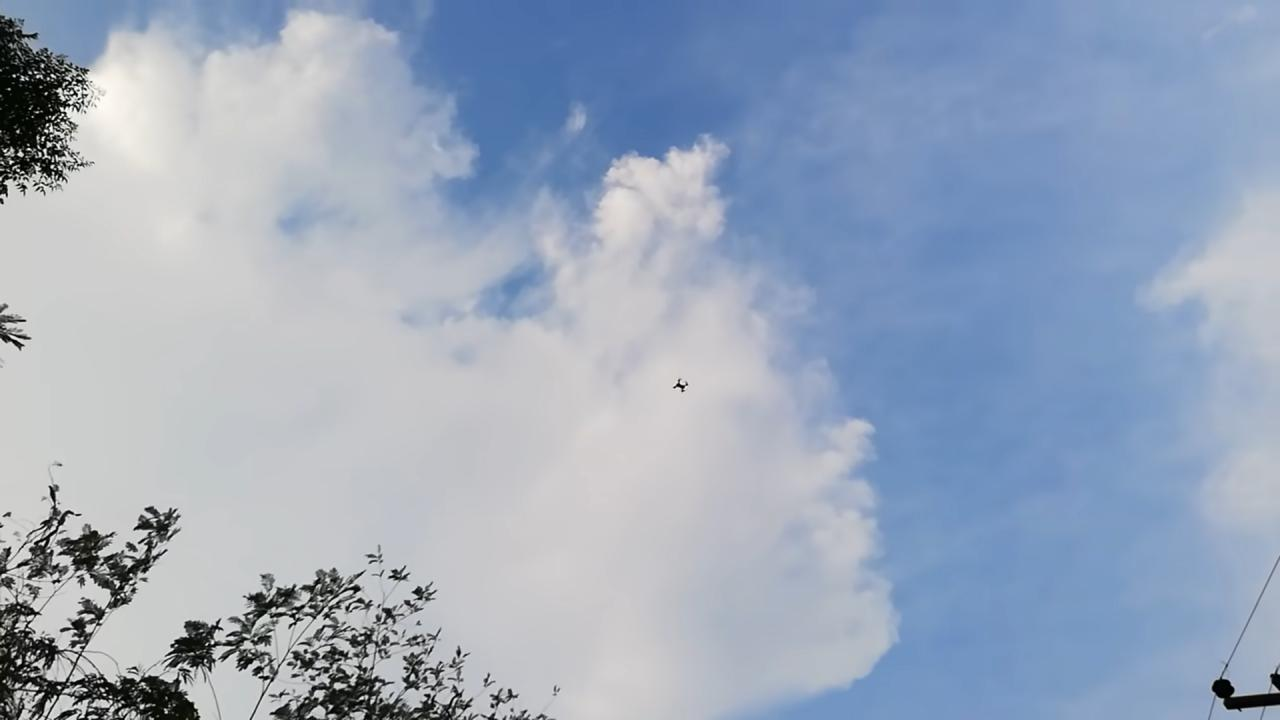Drone: (664, 370, 695, 401)
